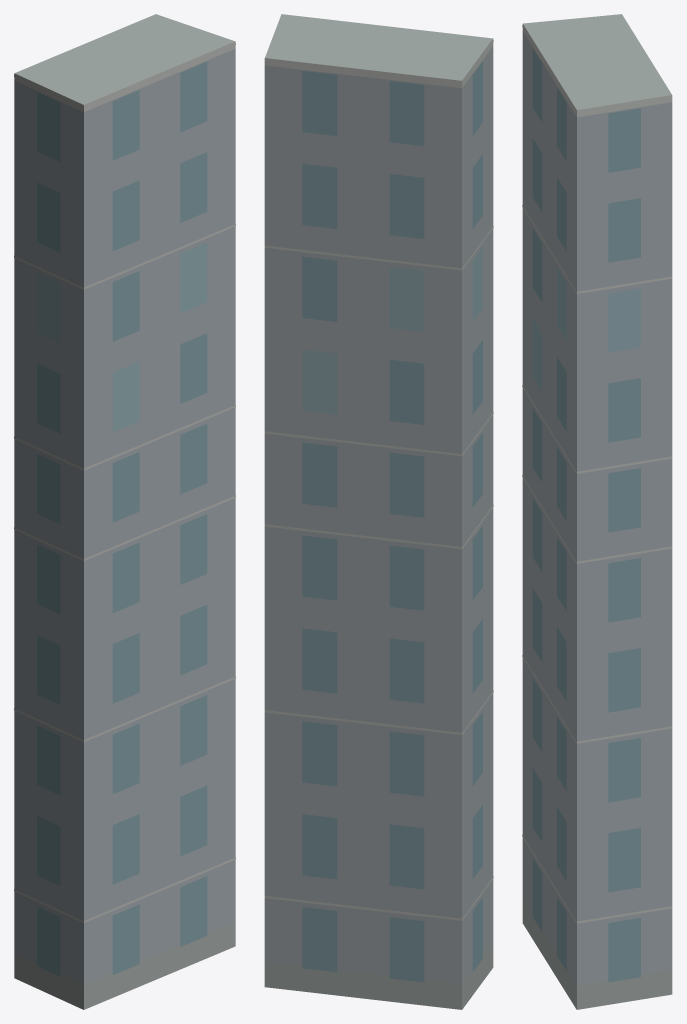
The model's file is survey-upis-32858040.glb.
3 renders of one model, left to right at view 1: azimuth 30°, elevation 25°; view 2: azimuth 150°, elevation 25°; view 3: azimuth 270°, elevation 25°, orthographic. The views are drawn at different scales.
Visible parts, largest first — view 1: survey-upis-32858040.tmp; view 2: survey-upis-32858040.tmp; view 3: survey-upis-32858040.tmp.
Boxes of the visible parts, bbox=[...] form: survey-upis-32858040.tmp: bbox=[14, 14, 235, 1009]; survey-upis-32858040.tmp: bbox=[264, 14, 493, 1009]; survey-upis-32858040.tmp: bbox=[522, 14, 672, 1009].
Bounding box in the file's own units: 7.03 × 30.5 × 4.62.
